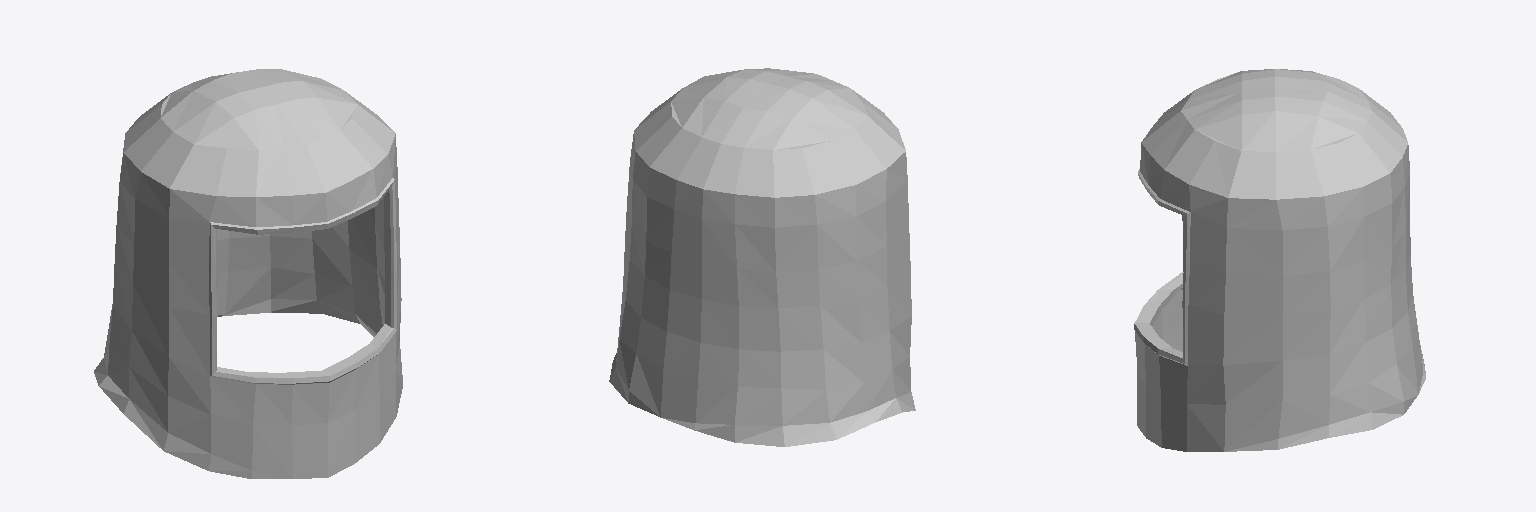
The model's file is LavaHelmet.obj.
The picture shows the model from 3 angles: view 1: azimuth 30°, elevation 25°; view 2: azimuth 150°, elevation 25°; view 3: azimuth 270°, elevation 25°; orthographic projection.
Size of the model in its own units: 26.5 by 32.21 by 25.18.